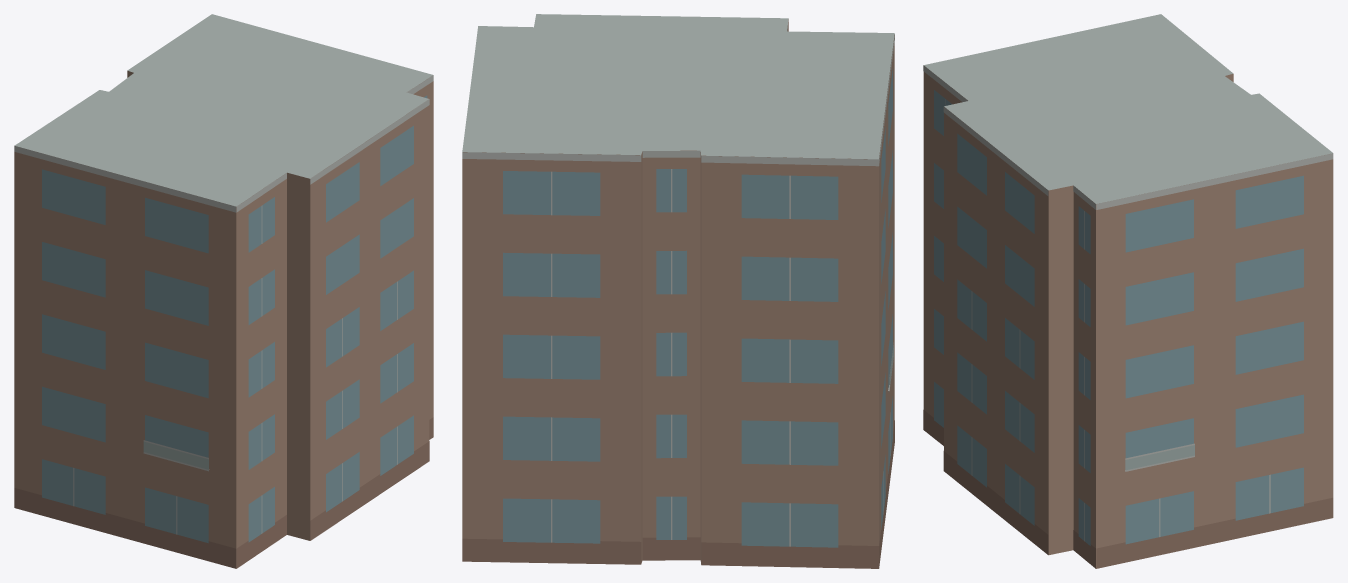
File: survey-upis-32982012.glb
3 views of the same model, side by side, from view 1: azimuth 30°, elevation 25°; view 2: azimuth 150°, elevation 25°; view 3: azimuth 270°, elevation 25° (orthographic). The views are drawn at different scales.
Visible parts, largest first — view 1: survey-upis-32982012.tmp; view 2: survey-upis-32982012.tmp; view 3: survey-upis-32982012.tmp.
Boxes of the visible parts, x1=… form: survey-upis-32982012.tmp: x1=14, y1=14, x2=433, y2=568; survey-upis-32982012.tmp: x1=462, y1=14, x2=894, y2=568; survey-upis-32982012.tmp: x1=923, y1=14, x2=1333, y2=568.
Bounding box in the file's own units: 16.27 × 14.55 × 14.83.
